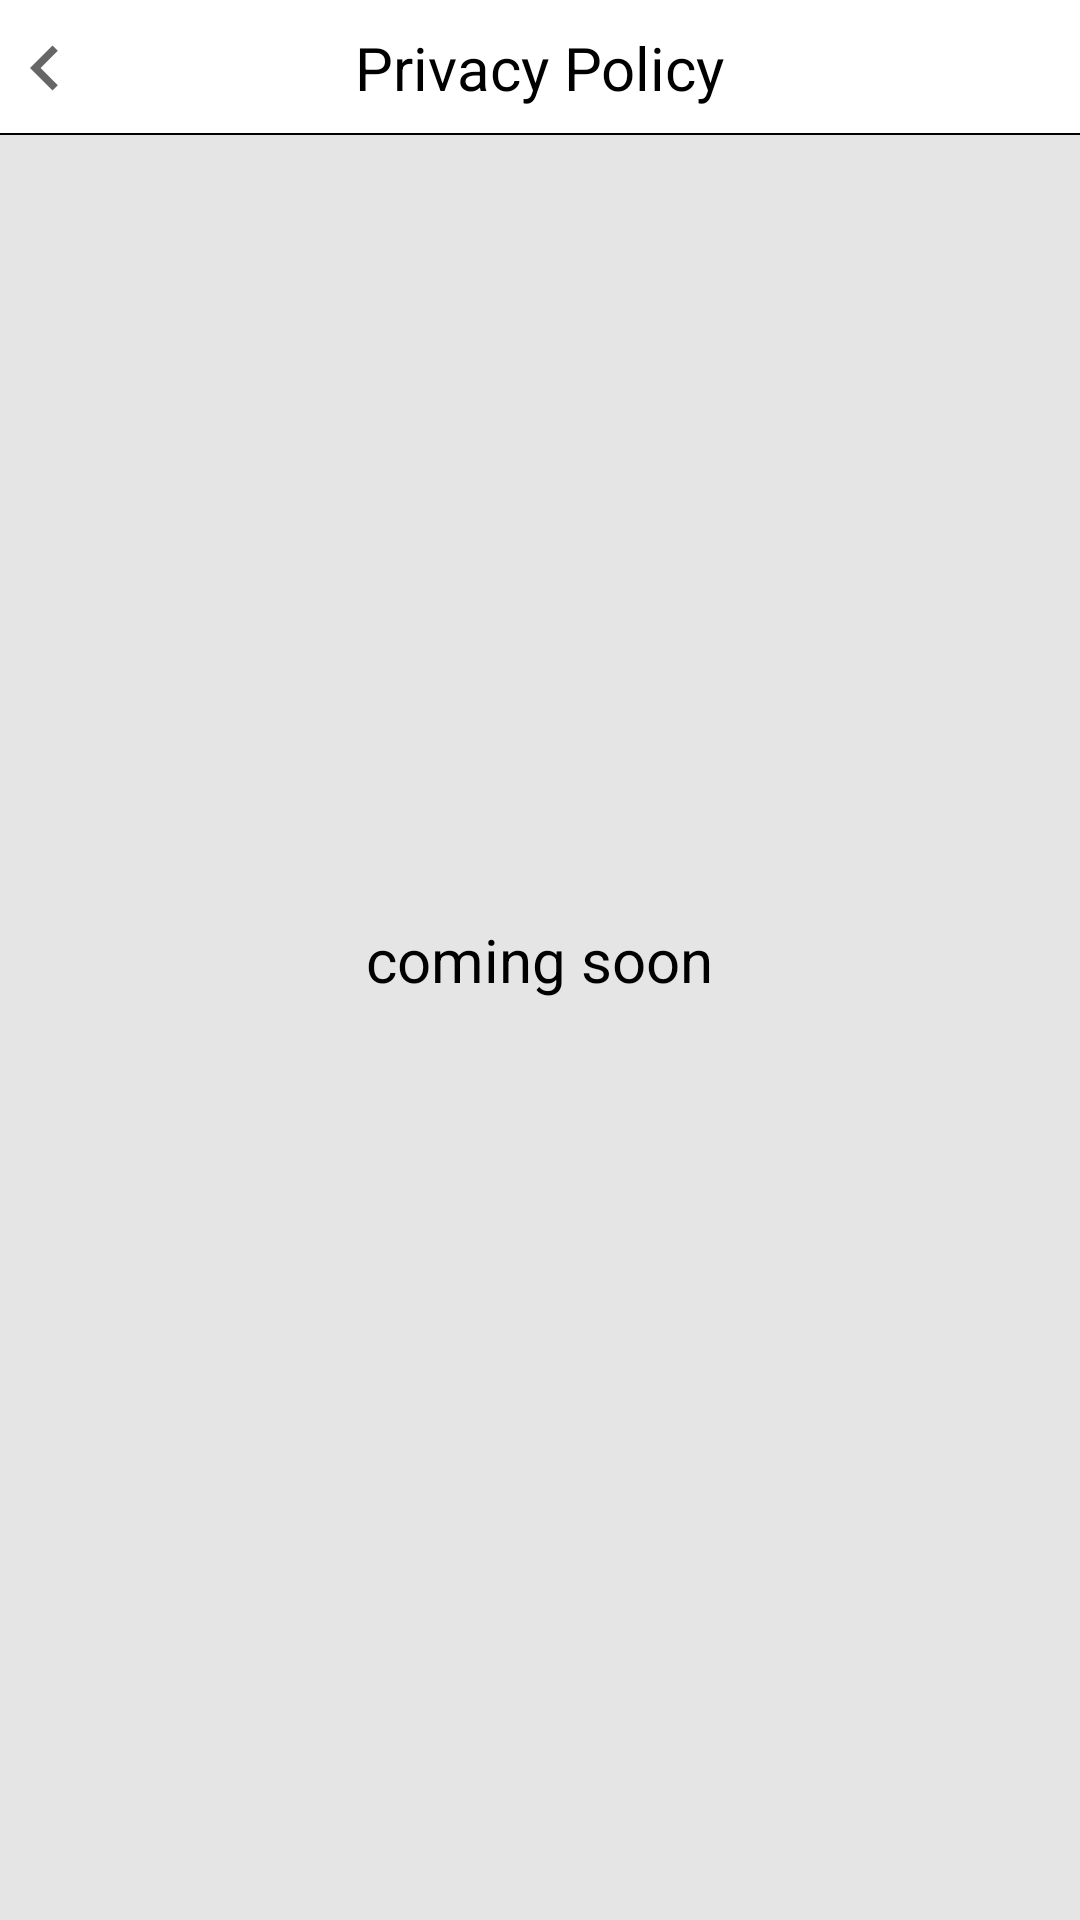

Named icons in this screenshot (1080*1920) and their centers, point (x, y):
chevron left: point (44, 68)
